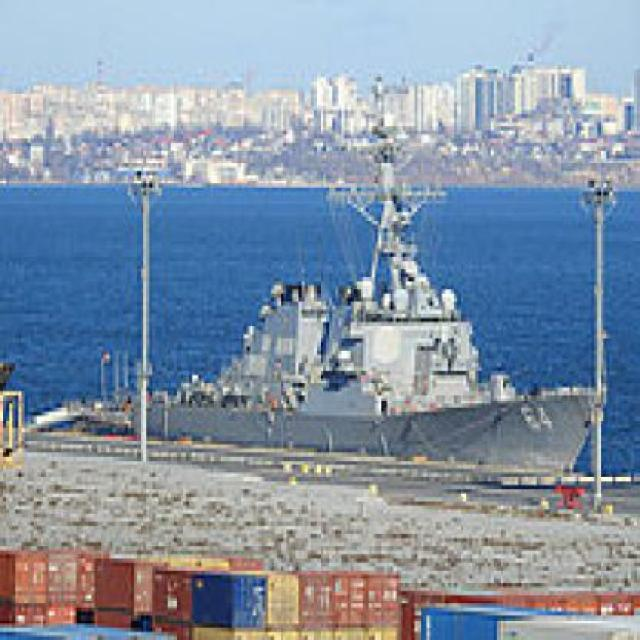warship2: (153, 102, 593, 478)
